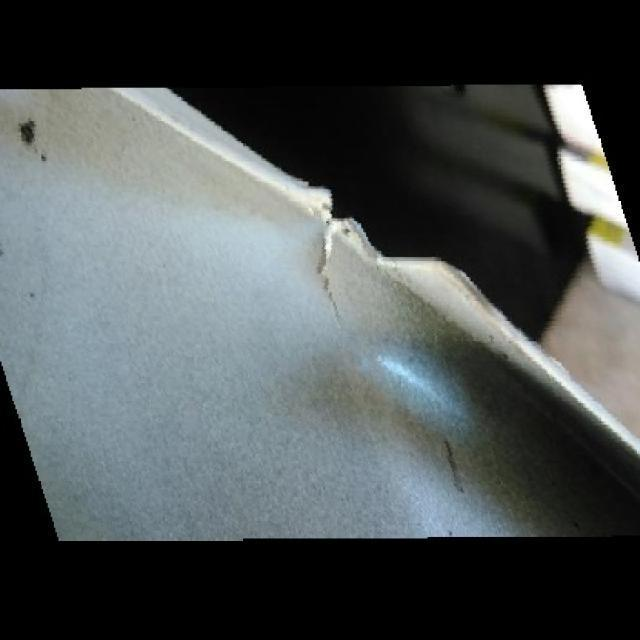crack: (317, 223, 337, 317)
